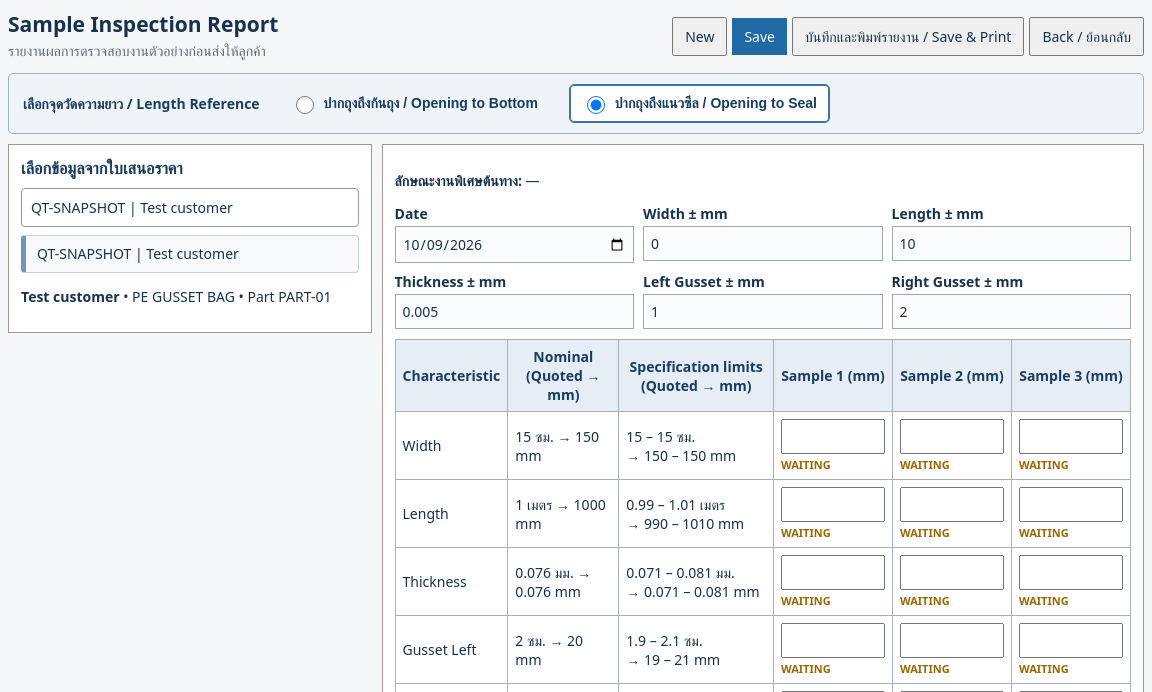
saved sample reports › refuses a new save if the selected source has no version
Click the button "Save".
click(760, 36)  # box [732,18,787,55]
(page scrolled)
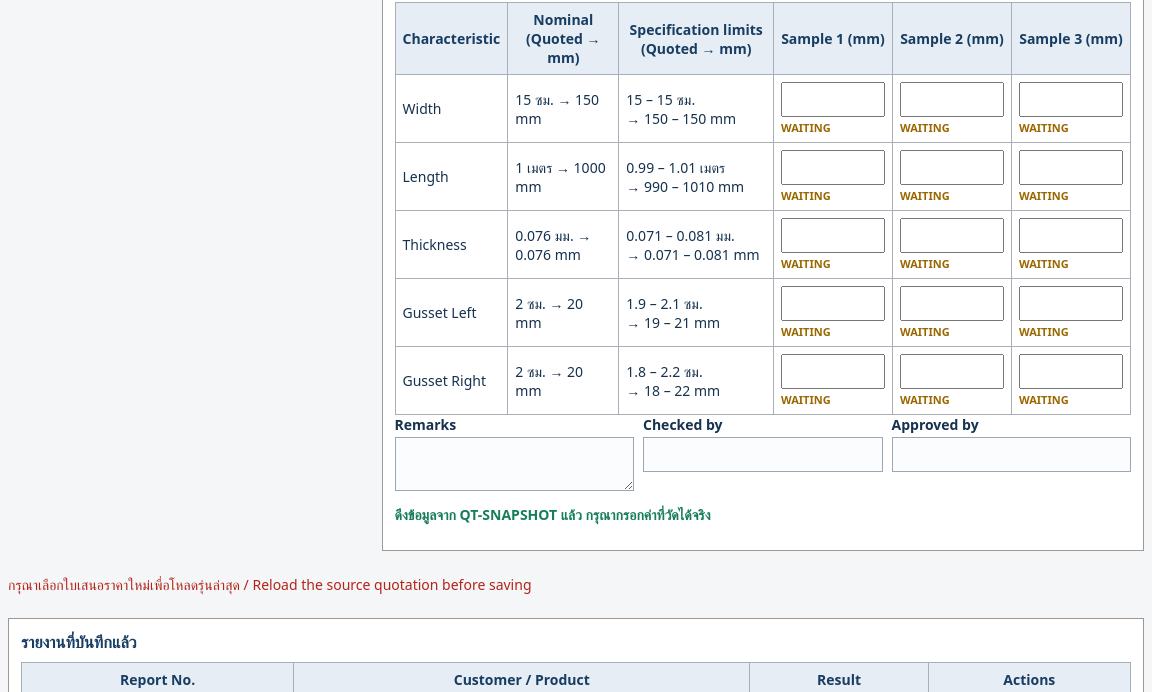
Check: the text "Reload the source quotation before saving" is shown, box [8,575,532,594]
